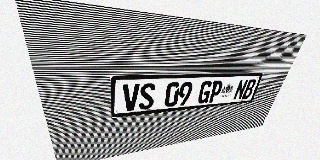0: (164, 82, 181, 107)
9: (177, 81, 194, 106)
B: (241, 79, 257, 99)
G: (197, 81, 213, 104)
N: (232, 79, 249, 100)
P: (207, 80, 224, 103)
S: (139, 83, 156, 110)
V: (123, 84, 140, 112)
